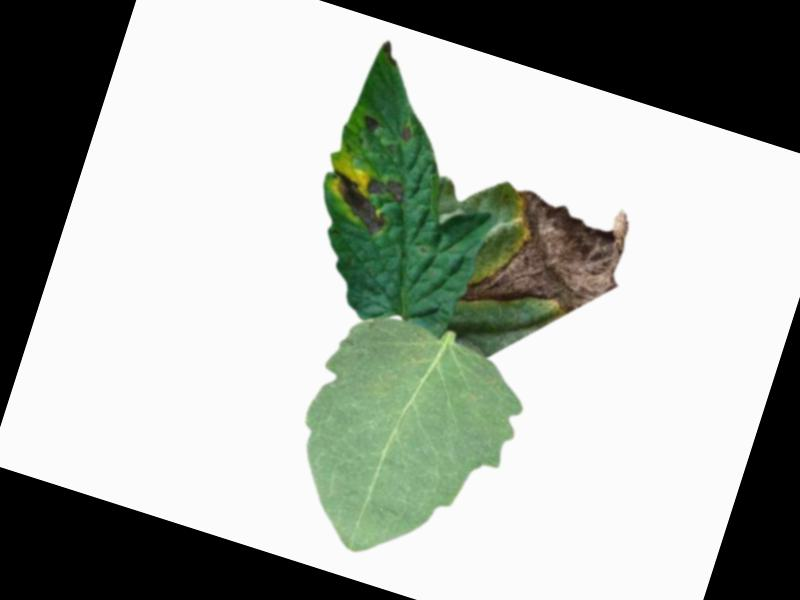Early_blight: (456, 169, 639, 348), (316, 158, 408, 241), (376, 38, 404, 70), (358, 113, 380, 135), (397, 125, 415, 146)
healthy: (269, 298, 539, 587)
